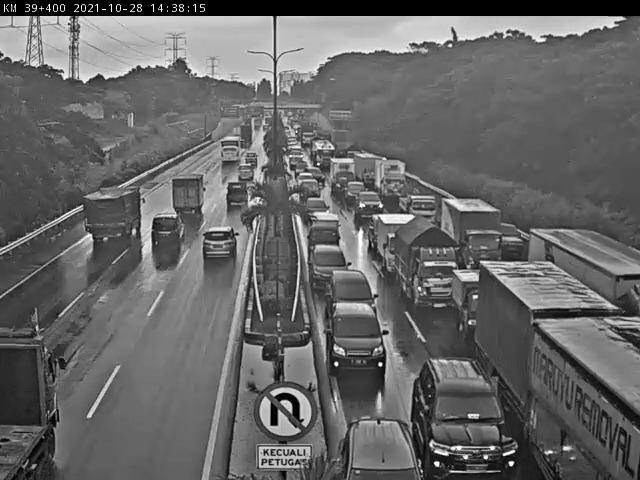big bus: (214, 133, 244, 168)
big truck: (479, 259, 640, 480), (524, 225, 640, 323), (399, 217, 464, 304), (439, 193, 505, 272), (74, 177, 147, 244), (379, 215, 422, 280), (162, 168, 210, 222), (396, 186, 435, 221)
car: (416, 350, 510, 478), (344, 405, 417, 480), (325, 298, 390, 372), (326, 263, 378, 319), (309, 238, 353, 288), (196, 220, 242, 262), (143, 213, 183, 257), (305, 224, 350, 260), (355, 189, 383, 215), (233, 164, 259, 190), (239, 150, 263, 177)
small truck: (454, 269, 509, 335), (222, 175, 254, 211)
